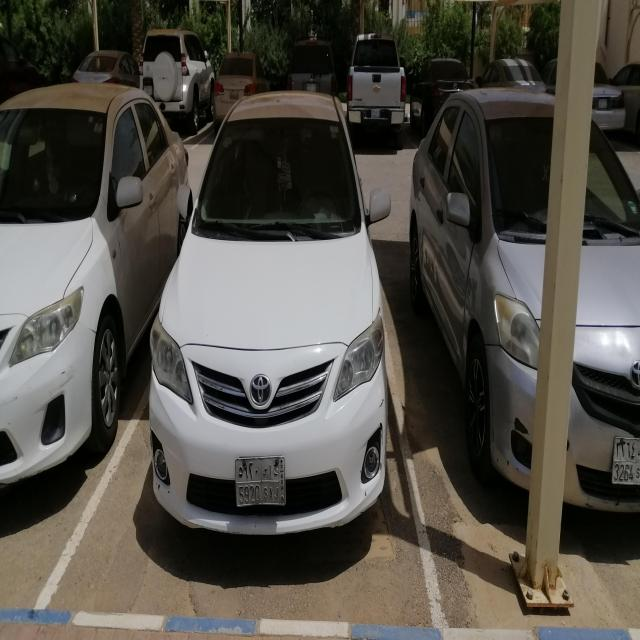license_plate: (234, 453, 286, 507)
